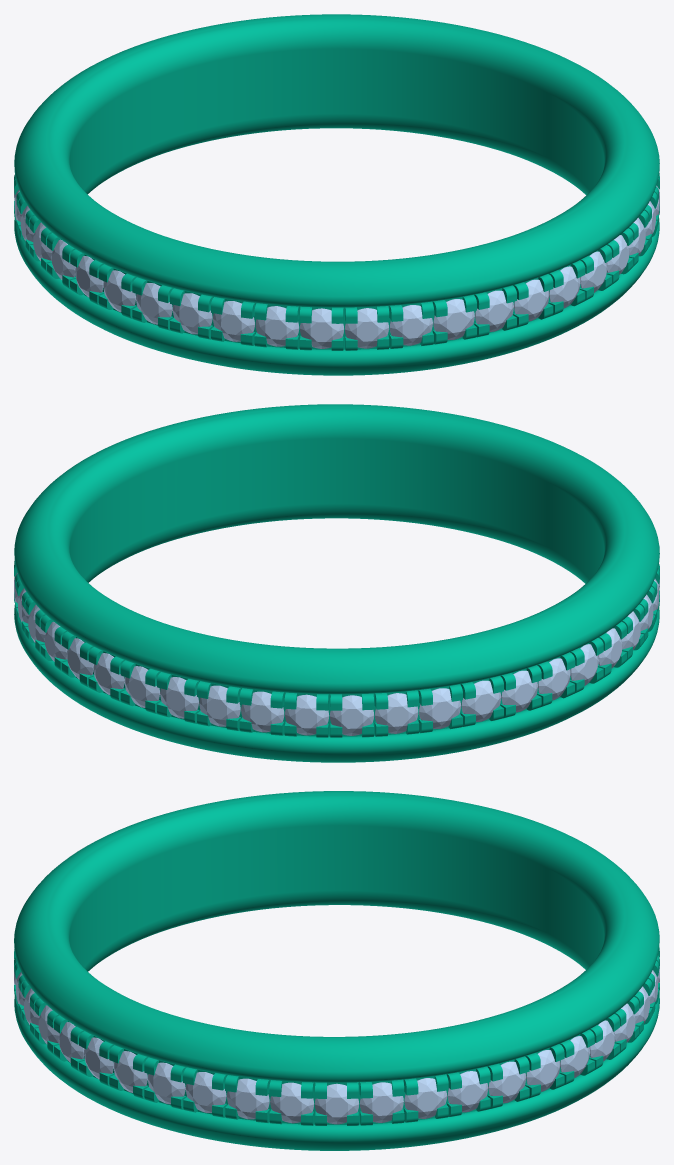
3 renders of one model, top to bottom at view 1: azimuth 30°, elevation 25°; view 2: azimuth 150°, elevation 25°; view 3: azimuth 270°, elevation 25°, orthographic.
Parts seen in each view (by area): view 1: 60200.AZHAR(render)base.3dm, Diamond_Round (×15); view 2: 60200.AZHAR(render)base.3dm, Diamond_Round (×15); view 3: 60200.AZHAR(render)base.3dm, Diamond_Round (×15).
Boxes of the visible parts, x1,y1,x2,y2 form: 60200.AZHAR(render)base.3dm: (14, 14, 659, 375); Diamond_Round (×15): (51, 239, 607, 348); 60200.AZHAR(render)base.3dm: (14, 404, 659, 762); Diamond_Round (×15): (66, 628, 622, 735); 60200.AZHAR(render)base.3dm: (14, 791, 659, 1150); Diamond_Round (×15): (58, 1020, 615, 1124).
Size of what is drawn, in the model's own units: 2.8 by 0.5263 by 2.8.
